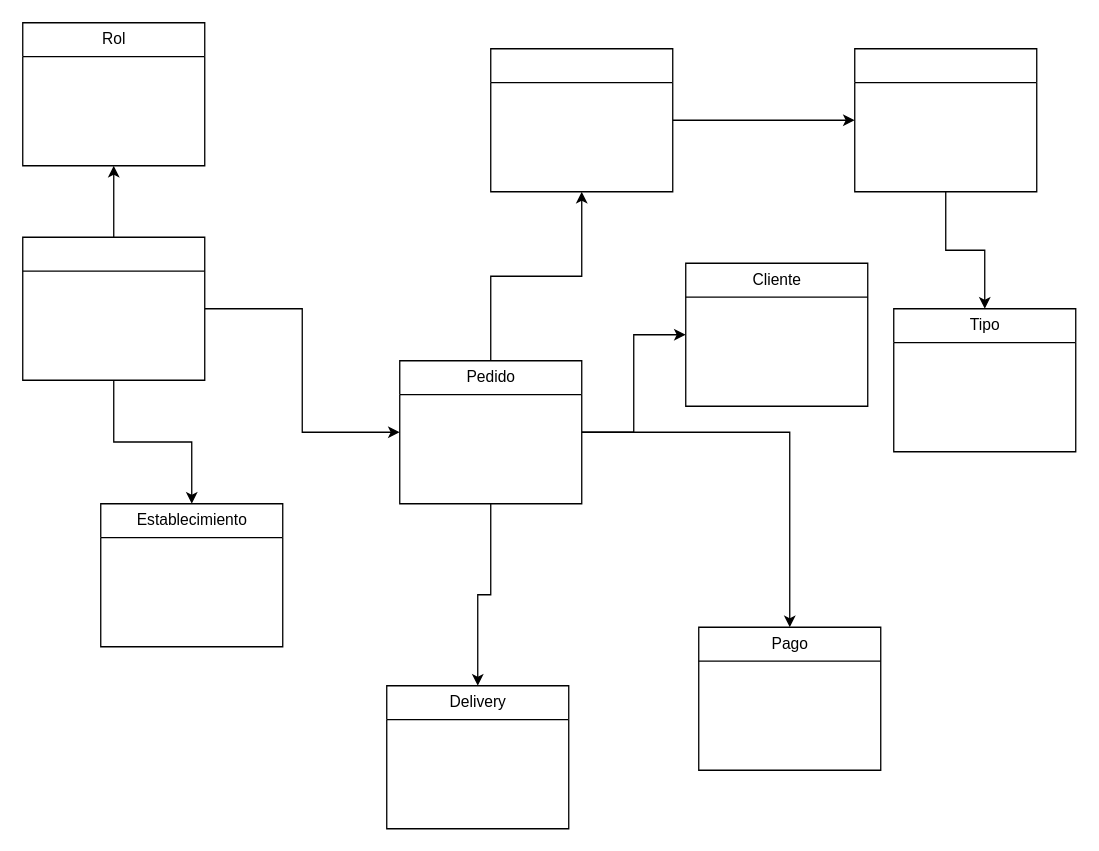
The diagram is 1099 pixels wide and 851 high, and some of its shapes have lost their labels. The centre of each missing label's shape, as x and y in pixels:
"DetallePedido" belongs at (581,119).
"Item" belongs at (945,119).
"Usuario" belongs at (113,308).
